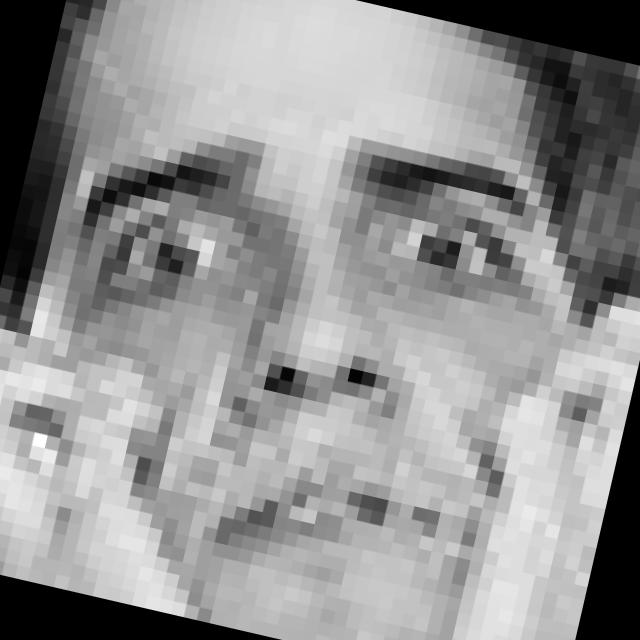fear: (0, 68, 581, 640)
